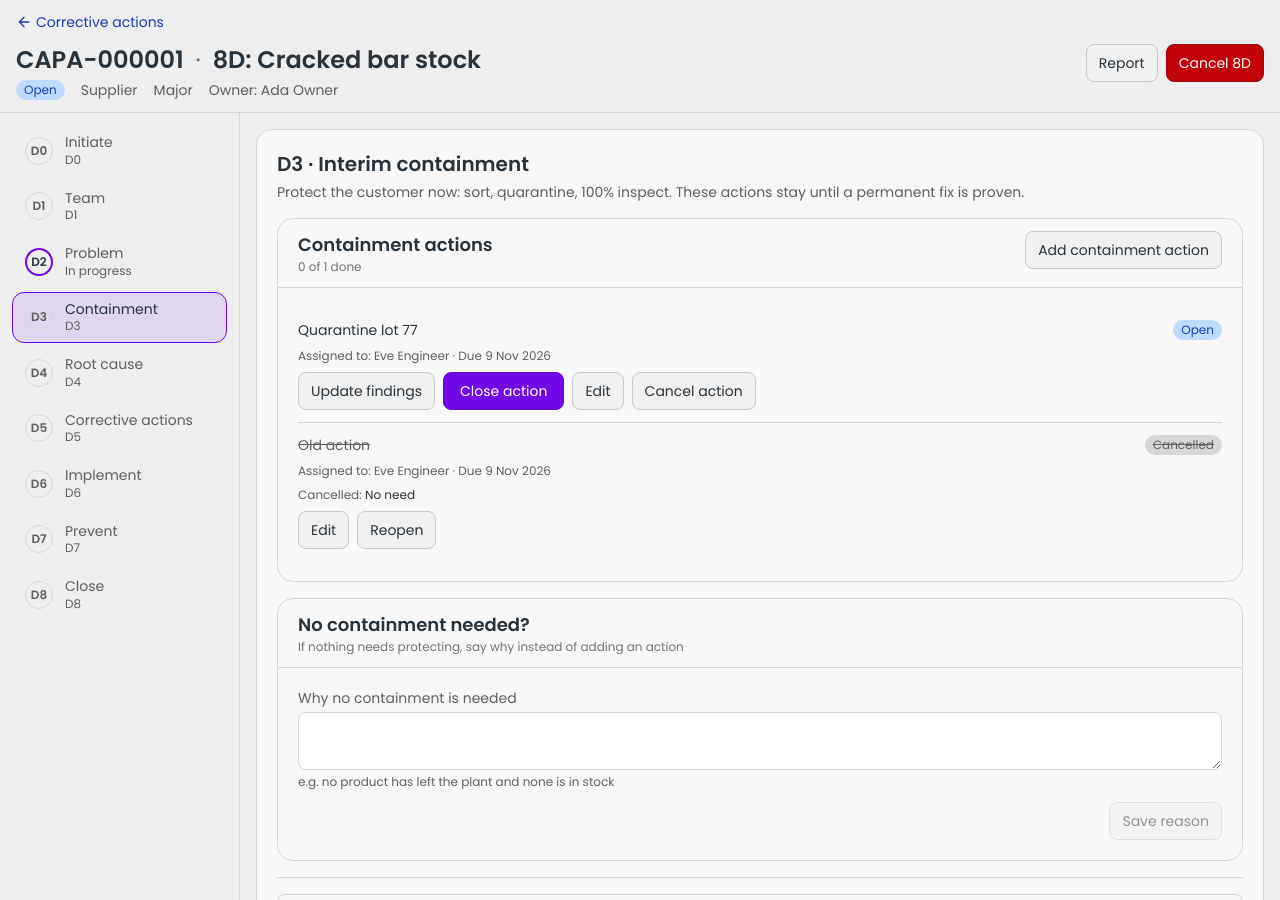
D3: interim containment › marks an action done with evidence, edits it, cancels another with a reason, and reopens one
The width and height of the screenshot is (1280, 900).
Later steps or results of the test are not shown.
Click the button with aria-label "Close action: Quarantine lot 77" at (504, 391), box [443,372,564,410]
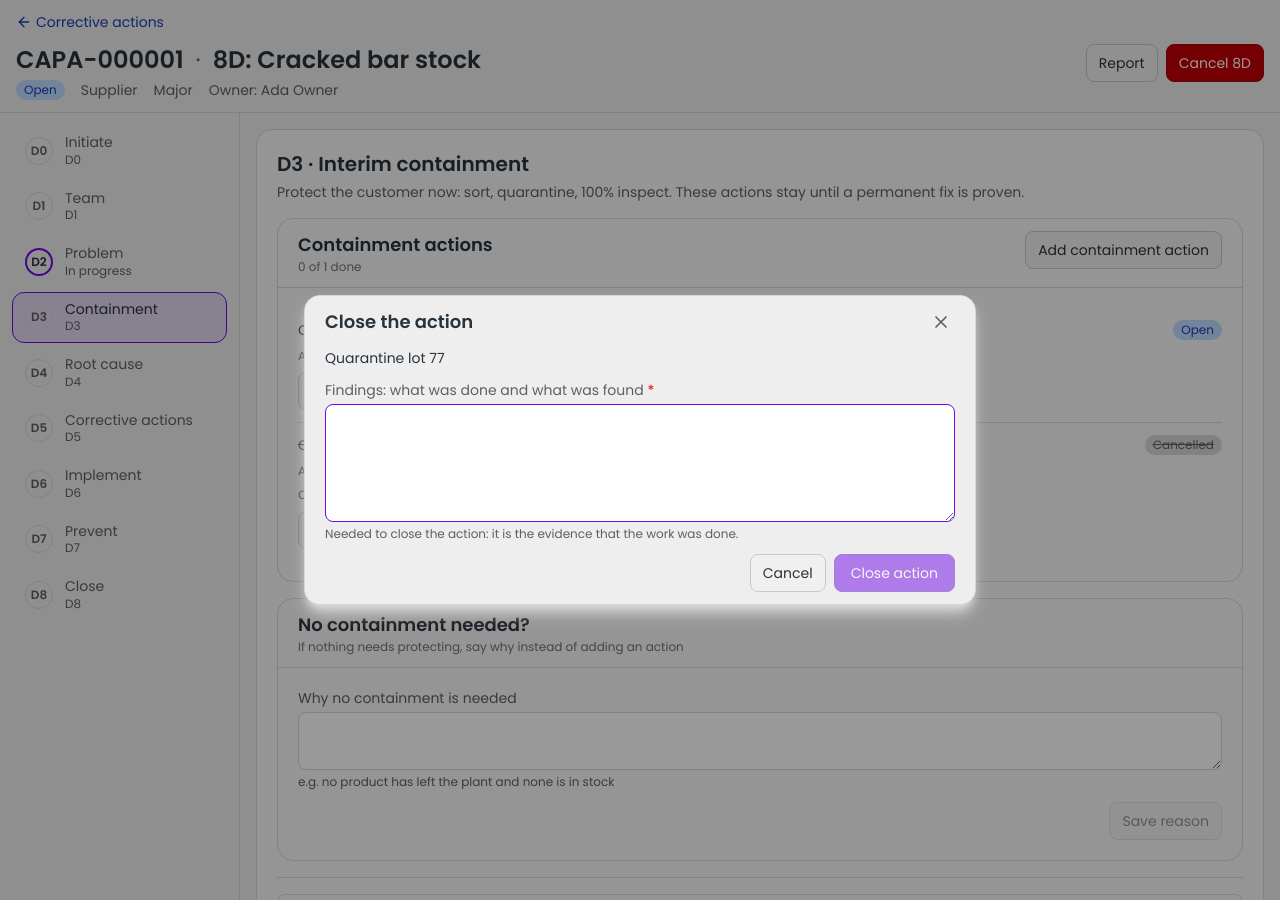
Expected: the button "Close action" is disabled, [834,554,955,592]
